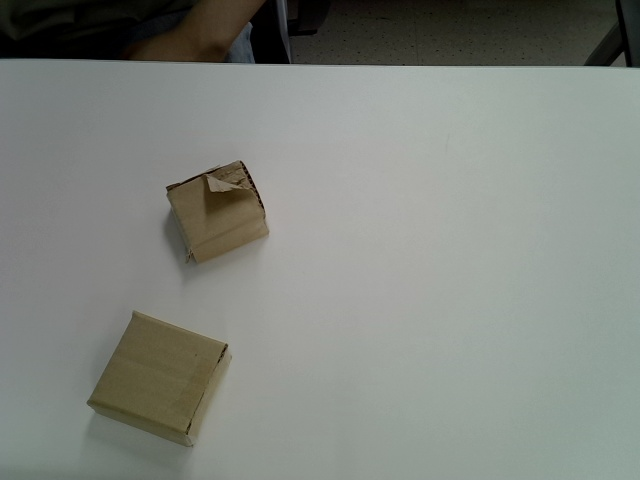defect: (166, 160, 272, 264)
normal: (88, 310, 232, 449)
